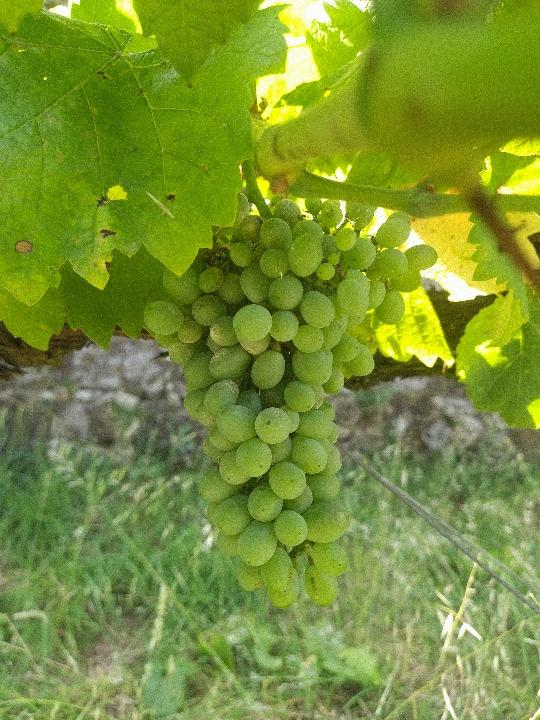grape: (139, 192, 444, 613)
